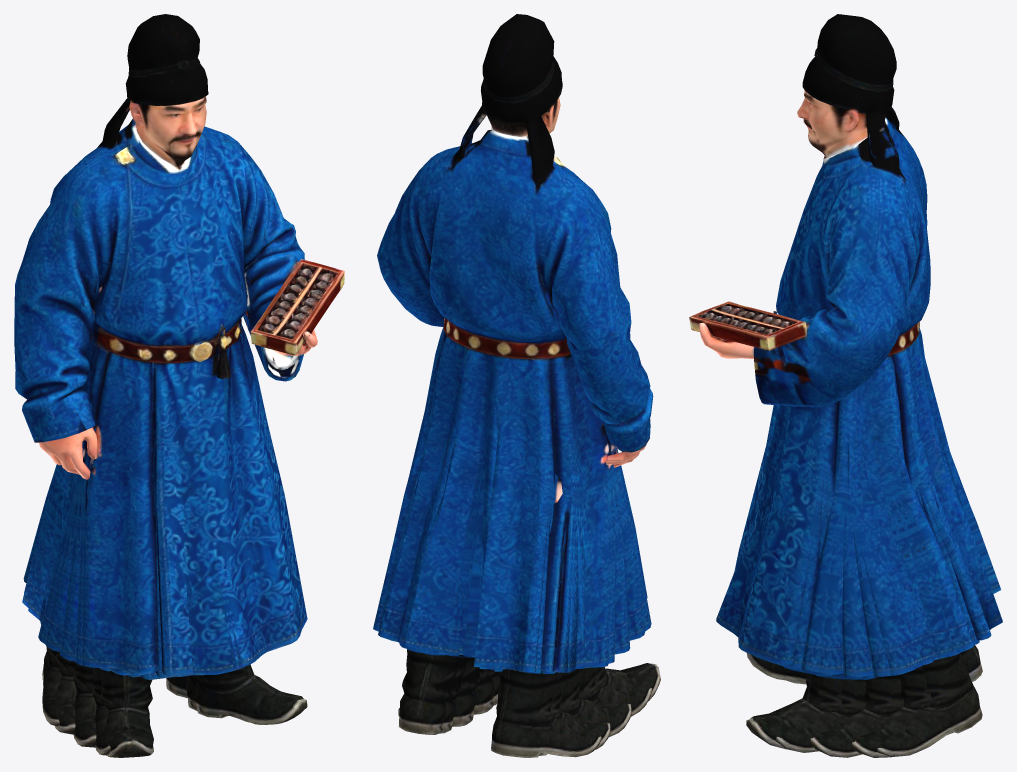
Rendered from p_merchant_walk.glb.
3 views of the same model, side by side, from view 1: azimuth 30°, elevation 25°; view 2: azimuth 150°, elevation 25°; view 3: azimuth 270°, elevation 25° (orthographic).
Parts seen in each view (by area): view 1: f0, f2, f6, f5, f1; view 2: f0, f6, f2, f1, f5; view 3: f0, f2, f6, f1, f5.
Part boxes in pixels (x1=…): f0: x1=14, y1=14, x2=344, y2=747; f2: x1=55, y1=359, x2=215, y2=757; f6: x1=22, y1=356, x2=307, y2=726; f5: x1=28, y1=372, x2=284, y2=734; f1: x1=61, y1=421, x2=214, y2=755; f0: x1=377, y1=14, x2=653, y2=736; f6: x1=474, y1=375, x2=642, y2=757; f2: x1=373, y1=373, x2=660, y2=734; f1: x1=388, y1=425, x2=652, y2=733; f5: x1=473, y1=376, x2=615, y2=755; f0: x1=689, y1=14, x2=933, y2=757; f2: x1=734, y1=370, x2=1002, y2=756; f6: x1=716, y1=354, x2=1000, y2=749; f1: x1=787, y1=406, x2=990, y2=757; f5: x1=753, y1=405, x2=915, y2=752.
Size of the model in its own units: 0.7109 by 1.76 by 0.7142.
1 material, 1 textured.
